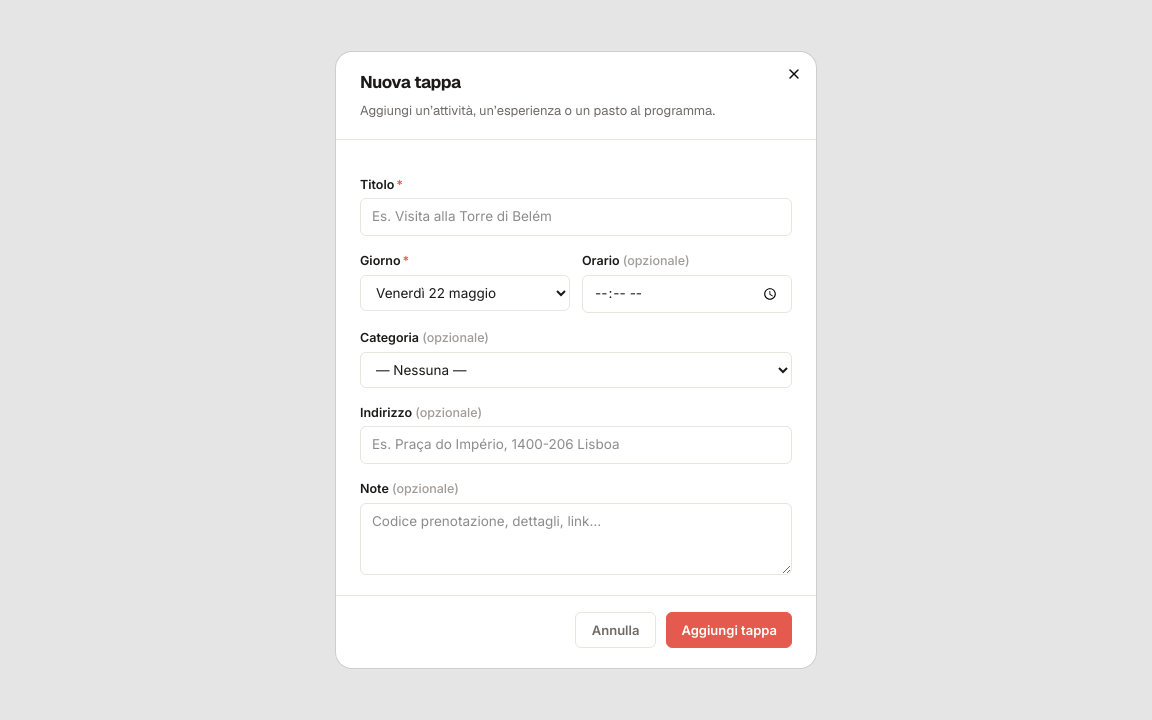
Test: AddStopModal › errori di validazione › mostra gli errori inline per nome e data quando l'azione restituisce errori
The image size is (1152, 720).
Click the button "Aggiungi tappa" at (729, 630), box [666,612,792,648]
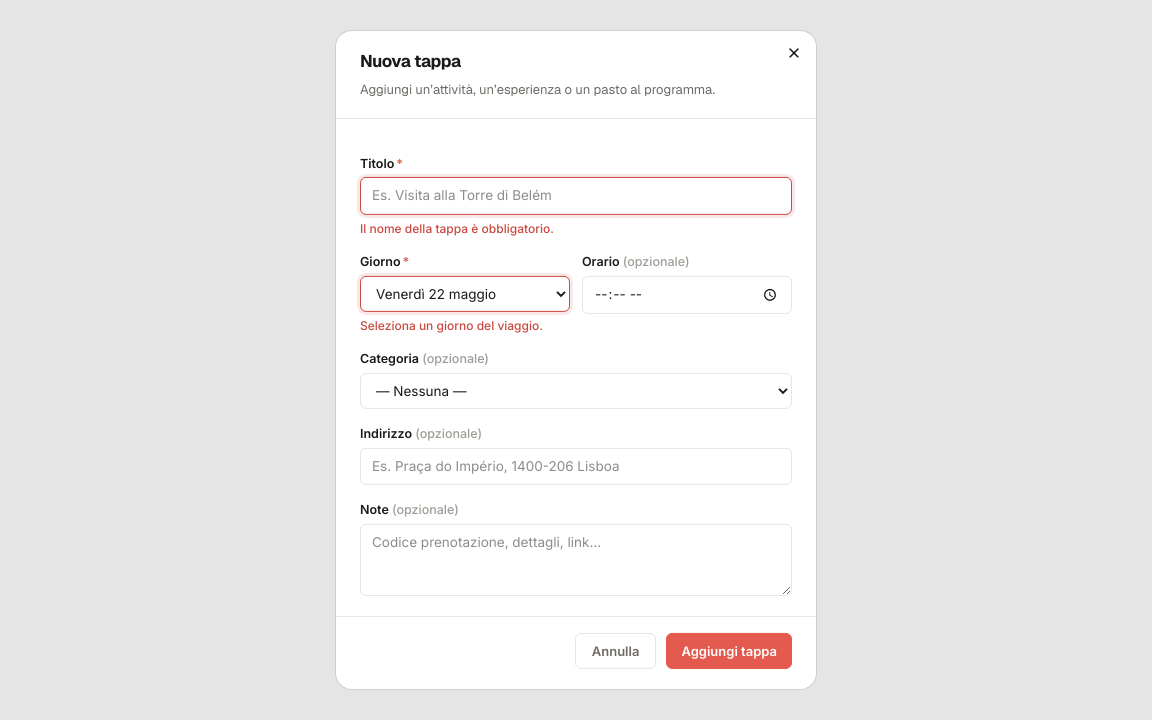
Now the text "Il nome della tappa è obbligatorio." is shown, box [360,221,554,236]
Now the text "Seleziona un giorno del viaggio." is shown, box [360,317,570,334]
